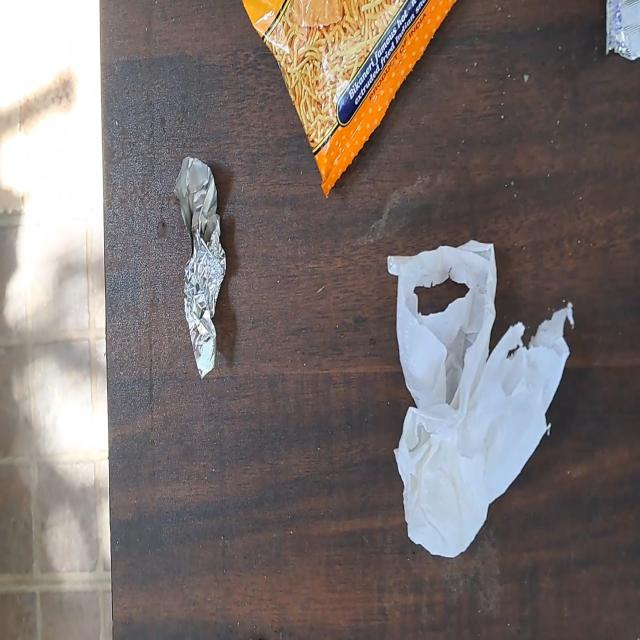Anorganik: (241, 2, 458, 202), (174, 156, 227, 379)
Organik: (388, 239, 574, 557)
